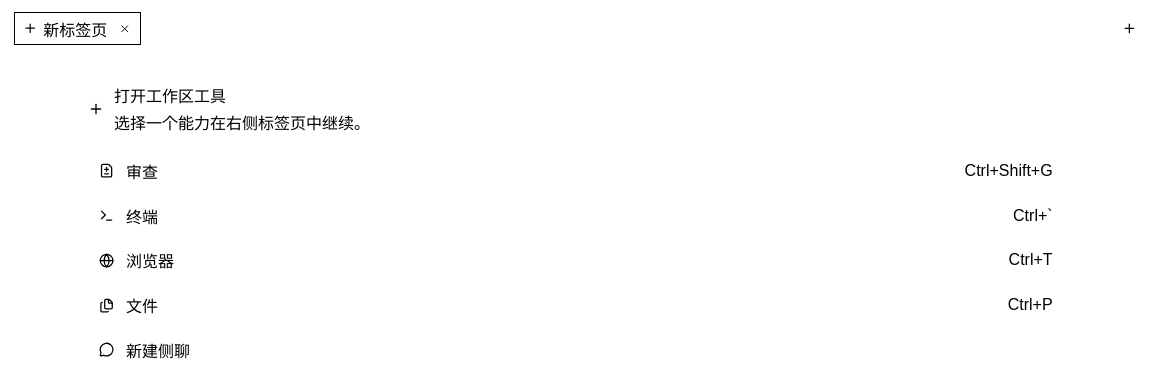
Test: Workbench controlled shell › replaces the initial launcher placeholder and uses plus as the only capability menu
The width and height of the screenshot is (1152, 376).
Expected: the heading "打开工作区工具" is shown, [114,88,226,105]
Click the button "终端 Ctrl+`": click(142, 217) [88,195,1064,236]
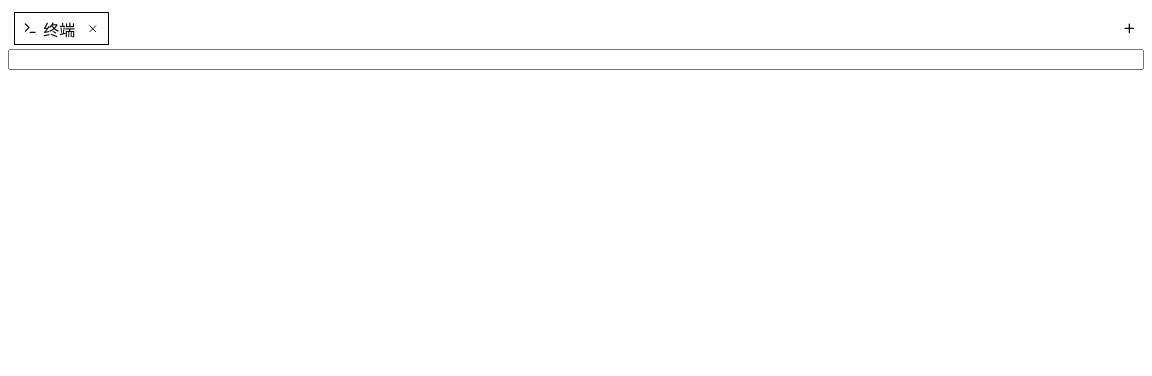
Now the tab "新标签页" is gone
Click the button named "新建标签页": click(1130, 28) [1115,14,1144,43]
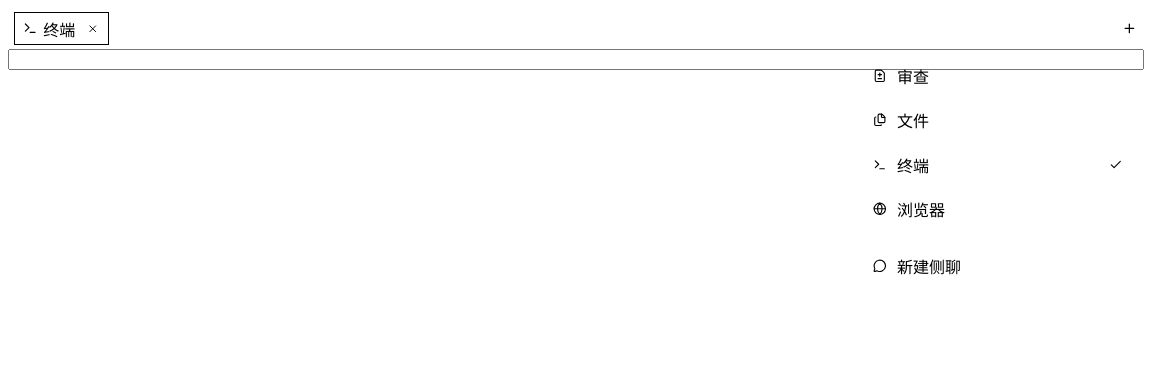
Now the menu item "浏览器" is enabled, box [873,202,945,219]
